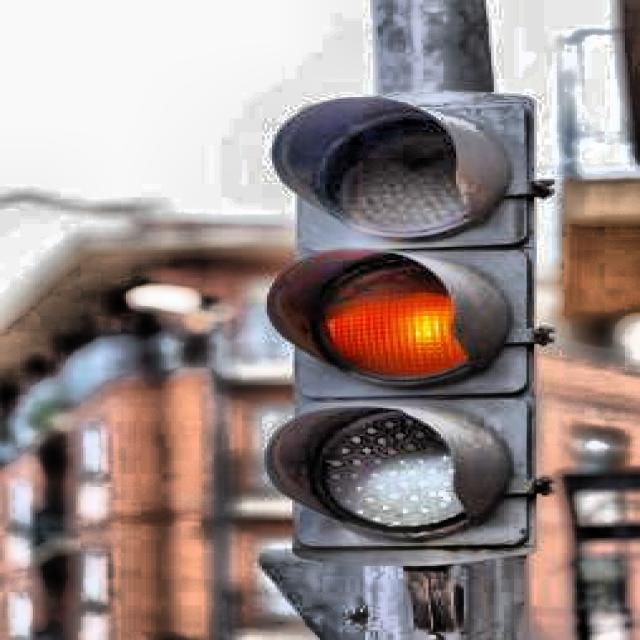yellow: (284, 102, 530, 563)
